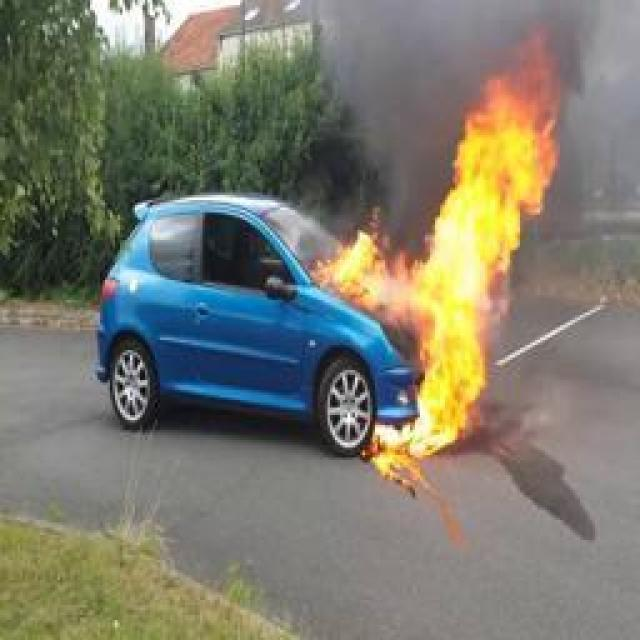Fire: (318, 30, 562, 458)
